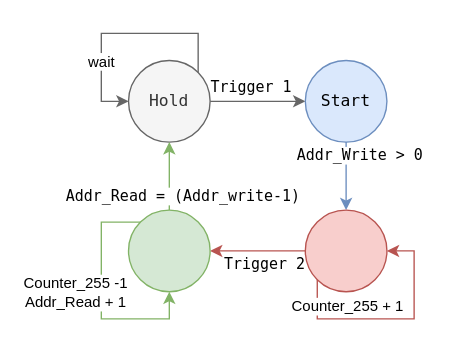
Some shapes in this 449 by 354 pixel diagram are drawn without their labels. Here are the shapes that lost their labels. From the top down, the centre of each, then its label:
At point 168,250: "Releasing".
At point 345,250: "Saving".
